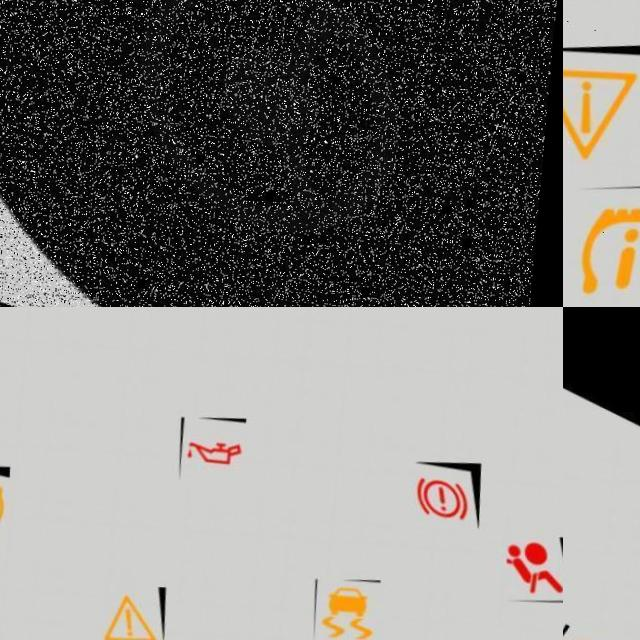Electronic Power Steering: (54, 0, 489, 281)
